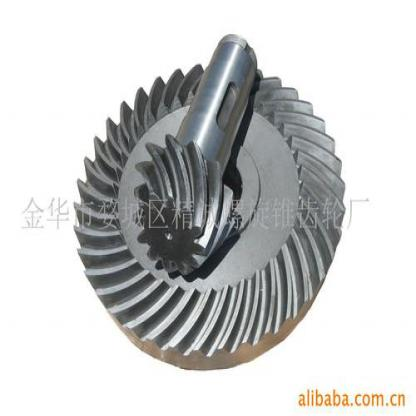FOD: (72, 57, 351, 373), (132, 132, 245, 283)
